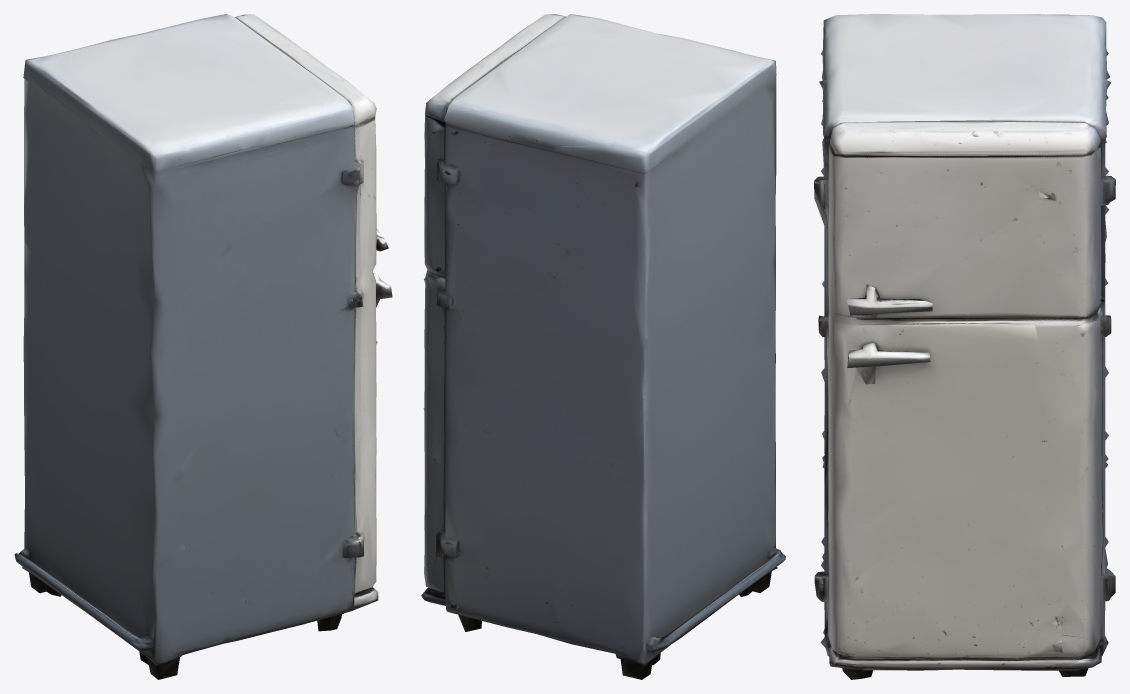
Rendered from kh_fridge.glb.
3 views of the same model, side by side, from view 1: azimuth 30°, elevation 25°; view 2: azimuth 150°, elevation 25°; view 3: azimuth 270°, elevation 25° (orthographic). The views are drawn at different scales.
Parts seen in each view (by area): view 1: tripo_node_63ea1a33-db7a-40a4-bc7d-4fad68110af9; view 2: tripo_node_63ea1a33-db7a-40a4-bc7d-4fad68110af9; view 3: tripo_node_63ea1a33-db7a-40a4-bc7d-4fad68110af9.
Part boxes in pixels (x1=…): tripo_node_63ea1a33-db7a-40a4-bc7d-4fad68110af9: x1=14, y1=14, x2=392, y2=679; tripo_node_63ea1a33-db7a-40a4-bc7d-4fad68110af9: x1=421, y1=14, x2=785, y2=679; tripo_node_63ea1a33-db7a-40a4-bc7d-4fad68110af9: x1=814, y1=14, x2=1115, y2=679.
Bounding box in the file's own units: 0.5174 × 1 × 0.4813.
1 material, 1 textured.
